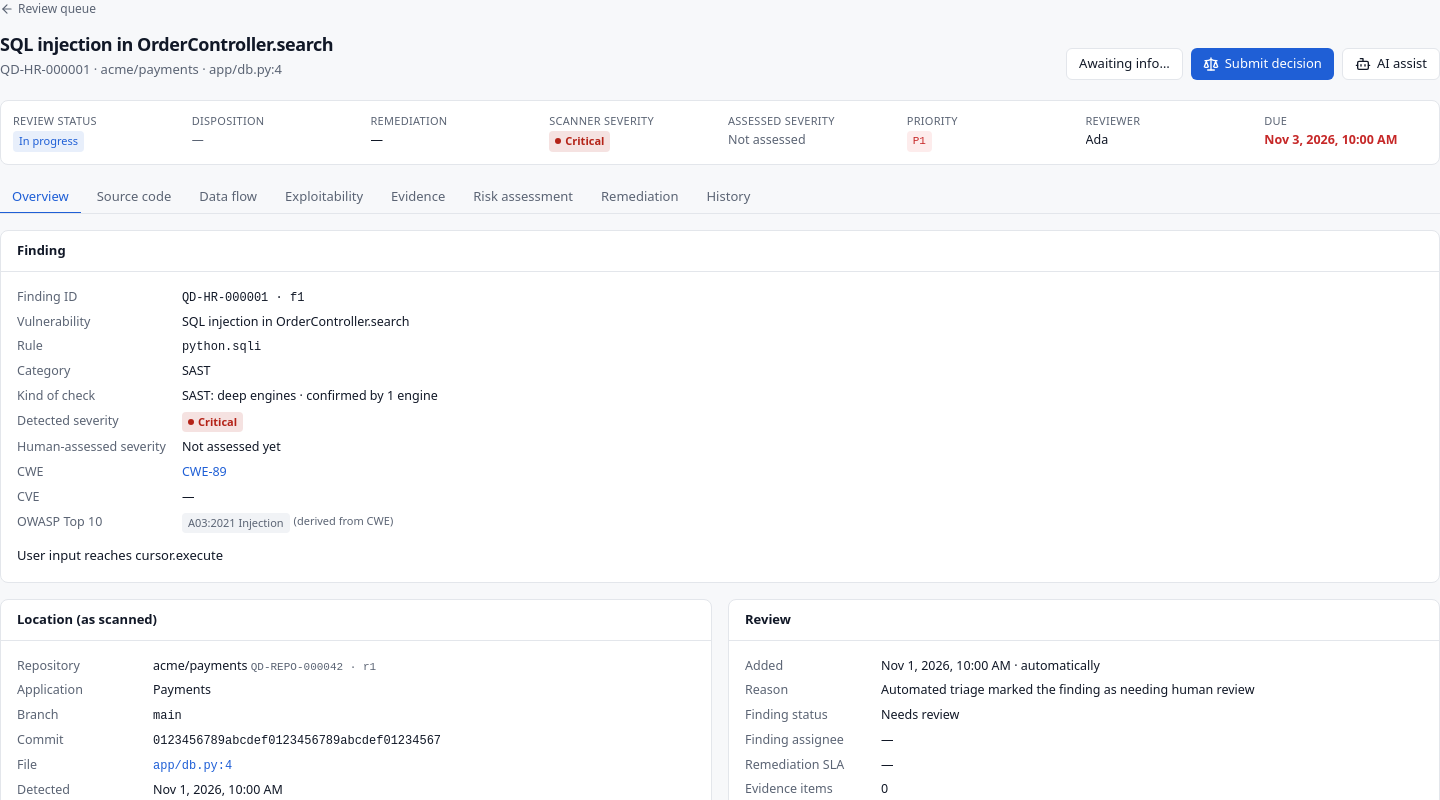
Test: assessment workspace › explains why AI assistance is unavailable
Click the button "AI assist" at point(1391, 64), box [1342, 48, 1439, 80]
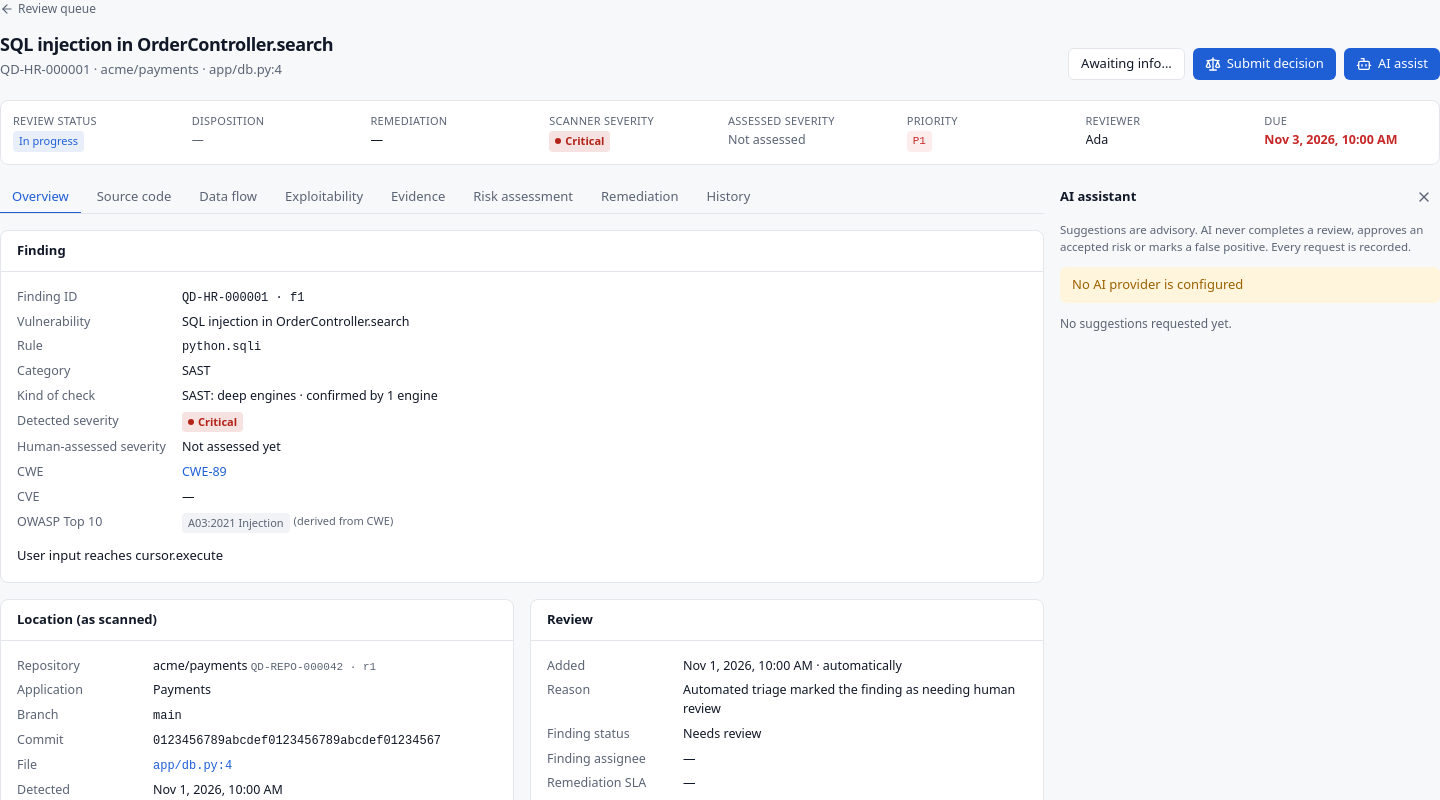
Check: the text "No AI provider is configured" is shown, box [1060, 267, 1439, 302]
Check: the text "AI never completes a review" is shown, box [1060, 222, 1423, 254]
